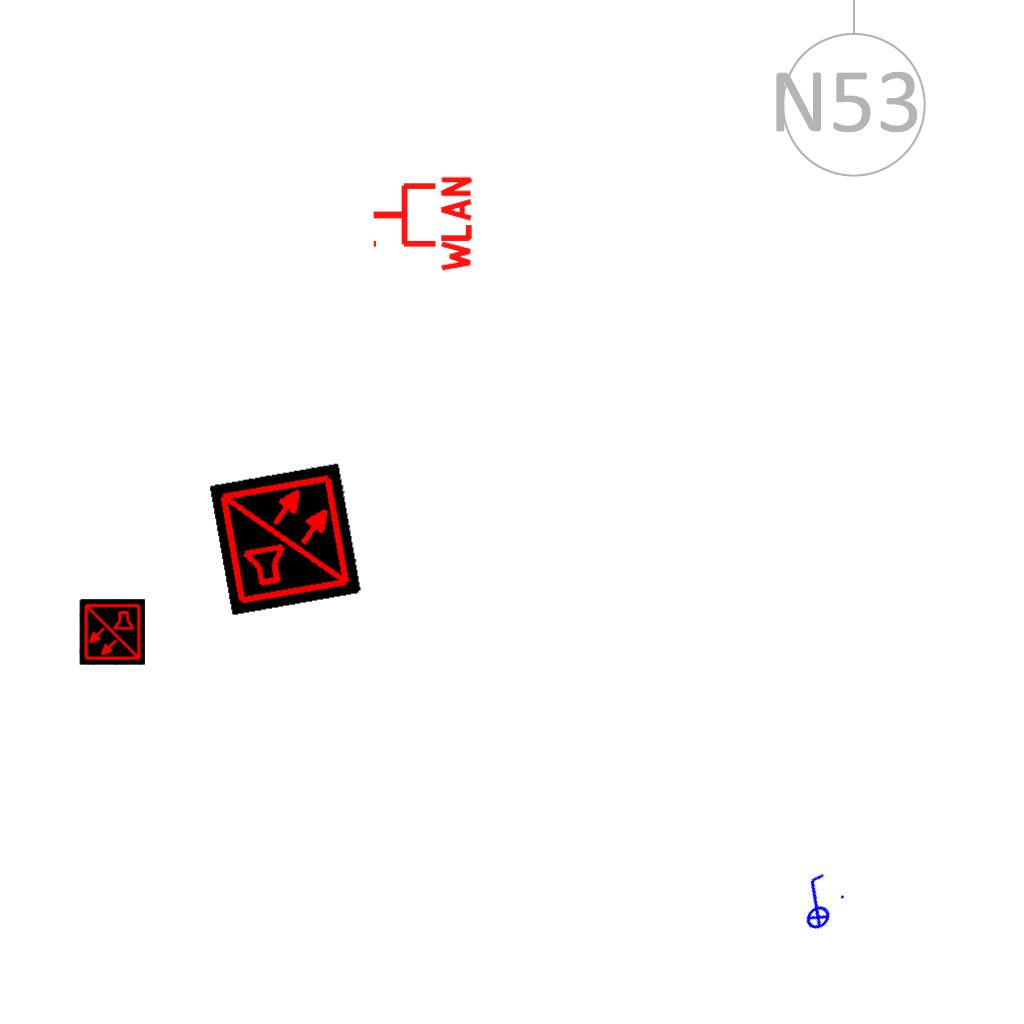Ausschalter_beleuchtet: (779, 865, 853, 939)
OKW_Multisensormelder_(Kombination_optischer_Rauch-Kahlenmonoxid_Waerme-Melder): (209, 462, 363, 616), (79, 599, 145, 665)
WLAN: (369, 172, 474, 276)
